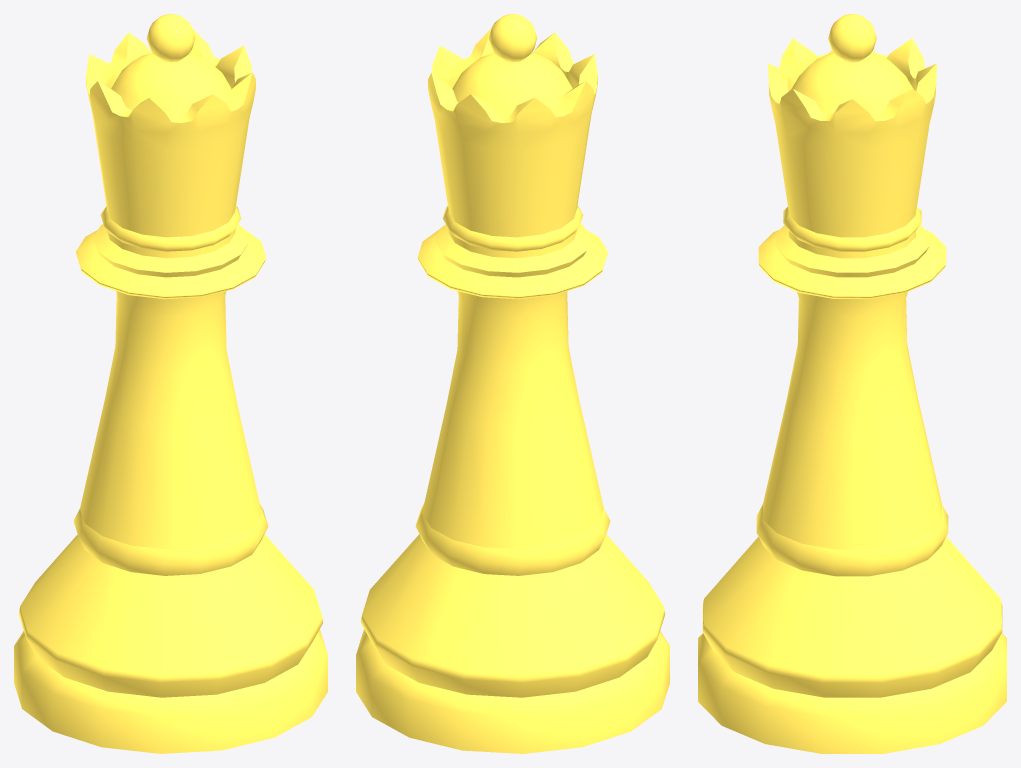
Rendered from item-4-1.glb.
3 renders of one model, left to right at view 1: azimuth 30°, elevation 25°; view 2: azimuth 150°, elevation 25°; view 3: azimuth 270°, elevation 25°, orthographic.
Parts seen in each view (by area): view 1: BlackQueen; view 2: BlackQueen; view 3: BlackQueen.
Part boxes in pixels (x1,y1,x2,y2): BlackQueen: [14, 14, 327, 753]; BlackQueen: [356, 14, 669, 753]; BlackQueen: [698, 14, 1006, 753].
Bounding box in the file's own units: 0.0968 × 0.2326 × 0.0968.
